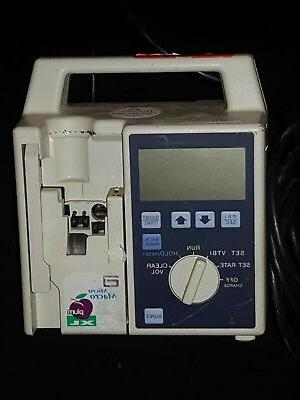plumxl1: (13, 46, 267, 341)
